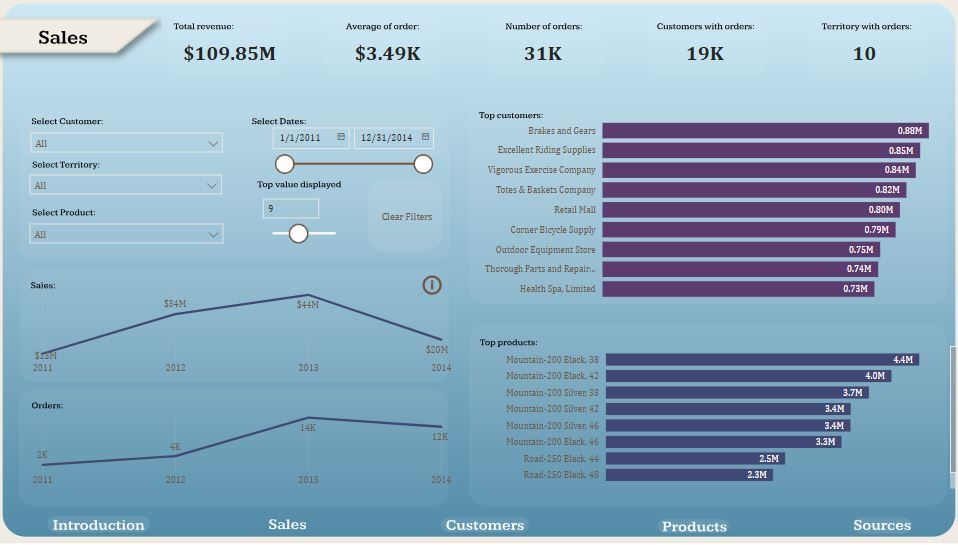

This screenshot's page, from the dashboard's own definition file:
{"tool":"powerbi","page":{"name":"Sales","canvas":[1280,720],"ordinal":1},"visuals":[{"type":"actionButton","box":[588.3,673.3,123.3,35],"z":0},{"type":"actionButton","box":[881.7,673.3,85,35],"z":1000},{"type":"actionButton","box":[1114.4,673.3,123.3,36.7],"z":3000},{"type":"actionButton","box":[71.7,671.7,141.7,36.7],"z":4000},{"type":"lineChart","fields":{"Category":["calendar.Year"],"Y":["_Measure.Total revenue"]},"box":[45.7,360,562.8,142.2],"z":5000},{"type":"lineChart","fields":{"Y":["_Measure.NumberOfOrders"],"Category":["calendar.Year"]},"box":[45.7,534.7,562.8,115.9],"z":6000},{"type":"slicer","fields":{"Values":["Parametr.Parametr"]},"box":[342.6,254.6,129.7,80.9],"z":7000},{"type":"barChart","fields":{"Category":["Product.ProductName"],"Y":["_Measure.TopN Filtered Sales"]},"box":[660.3,446,612,204.6],"z":8000},{"type":"slicer","fields":{"Values":["Product.ProductName"]},"box":[38.1,286.7,274.8,42.8],"z":9000},{"type":"clusteredBarChart","fields":{"Category":["Customer.CustomerName"],"Y":["_Measure.TopN Filtered SalesClients"]},"box":[625.8,140.8,654.2,268.3],"z":10000},{"type":"slicer","fields":{"Values":["Customer.CustomerName"]},"box":[39.2,167.5,273.3,45.8],"z":11000},{"type":"card","fields":{"Values":["_Measure.AllSalesProductSum"]},"box":[214.1,43.4,193.9,57.1],"z":12000},{"type":"card","fields":{"Values":["_Measure.AverageOrder"]},"box":[452,45.8,135.6,52.3],"z":13000},{"type":"card","fields":{"Values":["_Measure.NumberOfOrders"]},"box":[663.8,45.8,120.1,52.3],"z":14000},{"type":"slicer","fields":{"Values":["calendar.Date"]},"box":[355.7,160.6,232,74.9],"z":15000},{"type":"card","fields":{"Values":["_Measure.Customers with Orders"]},"box":[881.5,31.5,109.4,80.9],"z":16000},{"type":"actionButton","box":[503.2,235.5,84.5,101.1],"z":17000},{"type":"actionButton","box":[560.3,360.4,40.4,34.5],"z":18000},{"type":"slicer","fields":{"Values":["Territory.TerritoryName"]},"box":[38.3,222.5,272.5,45.8],"z":19000},{"type":"card","fields":{"Values":["_Measure.TerritoriesPerProduct"]},"box":[1075.4,29.7,142.8,84.5],"z":20000}]}

Visuals, with their boxes in screenshot pixels (x1, y1, x2, y2), scaled from the page's 1280x720 canvas onto the 958x545 screenshot:
actionButton: (440, 510, 533, 536)
actionButton: (660, 510, 724, 536)
actionButton: (834, 510, 926, 537)
actionButton: (54, 508, 160, 536)
lineChart - calendar.Year x _Measure.Total revenue: (34, 272, 455, 380)
lineChart - _Measure.NumberOfOrders x calendar.Year: (34, 405, 455, 492)
slicer - Parametr.Parametr: (256, 193, 353, 254)
barChart - Product.ProductName x _Measure.TopN Filtered Sales: (494, 338, 952, 492)
slicer - Product.ProductName: (29, 217, 234, 249)
clusteredBarChart - Customer.CustomerName x _Measure.TopN Filtered SalesClients: (468, 107, 957, 310)
slicer - Customer.CustomerName: (29, 127, 234, 161)
card - _Measure.AllSalesProductSum: (160, 33, 305, 76)
card - _Measure.AverageOrder: (338, 35, 440, 74)
card - _Measure.NumberOfOrders: (497, 35, 587, 74)
slicer - calendar.Date: (266, 122, 440, 178)
card - _Measure.Customers with Orders: (660, 24, 742, 85)
actionButton: (377, 178, 440, 255)
actionButton: (419, 273, 450, 299)
slicer - Territory.TerritoryName: (29, 168, 233, 203)
card - _Measure.TerritoriesPerProduct: (805, 22, 912, 86)
